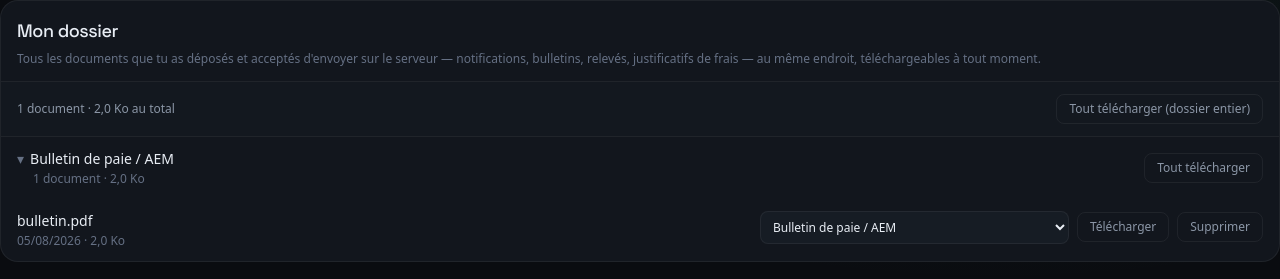
MonDossier — connecté › corriger le type RECLASSE le document dans le groupe du nouveau type
Select "Attestation CPAM" in the dropdown named "type de « bulletin.pdf" at (914, 227), box [760,210,1069,244]
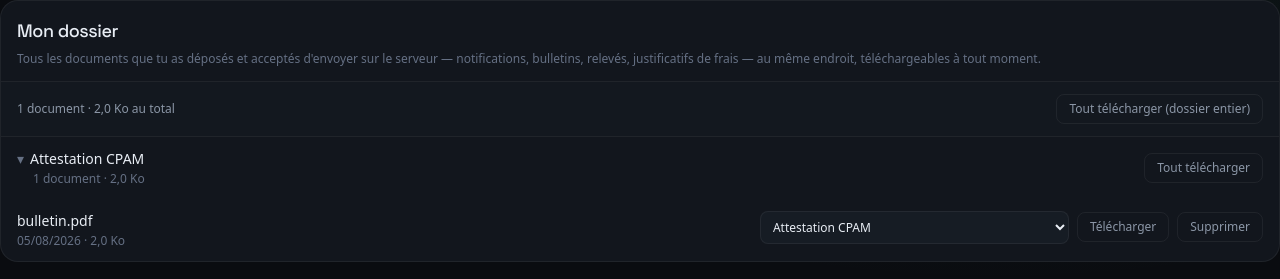
Result: the dropdown named "type de « bulletin.pdf" shows "Attestation CPAM" at [760,210,1069,244]
Result: the button "▾Attestation CPAM 1 document · 2,0 Ko" is shown at [17,148,145,186]
